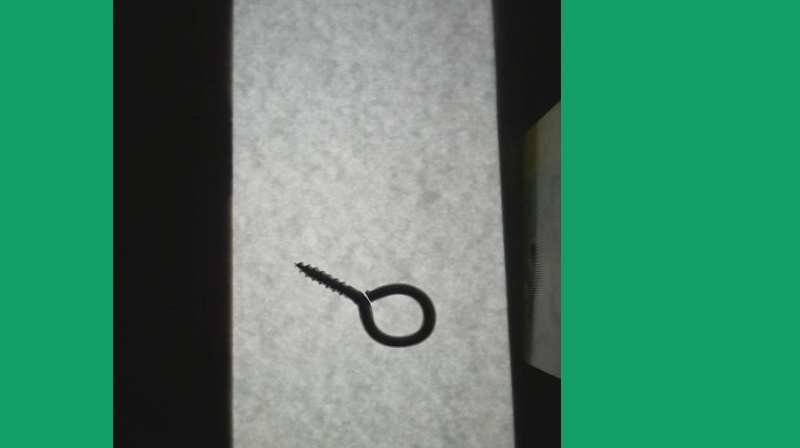O001: (292, 256, 437, 351)
